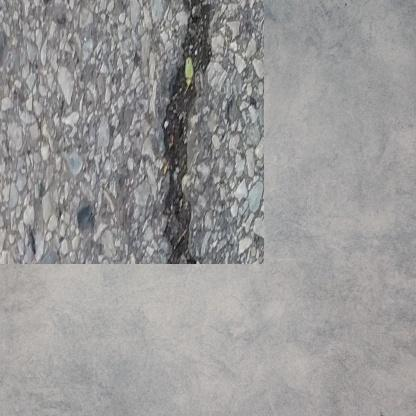Cracks: (152, 0, 201, 244)
